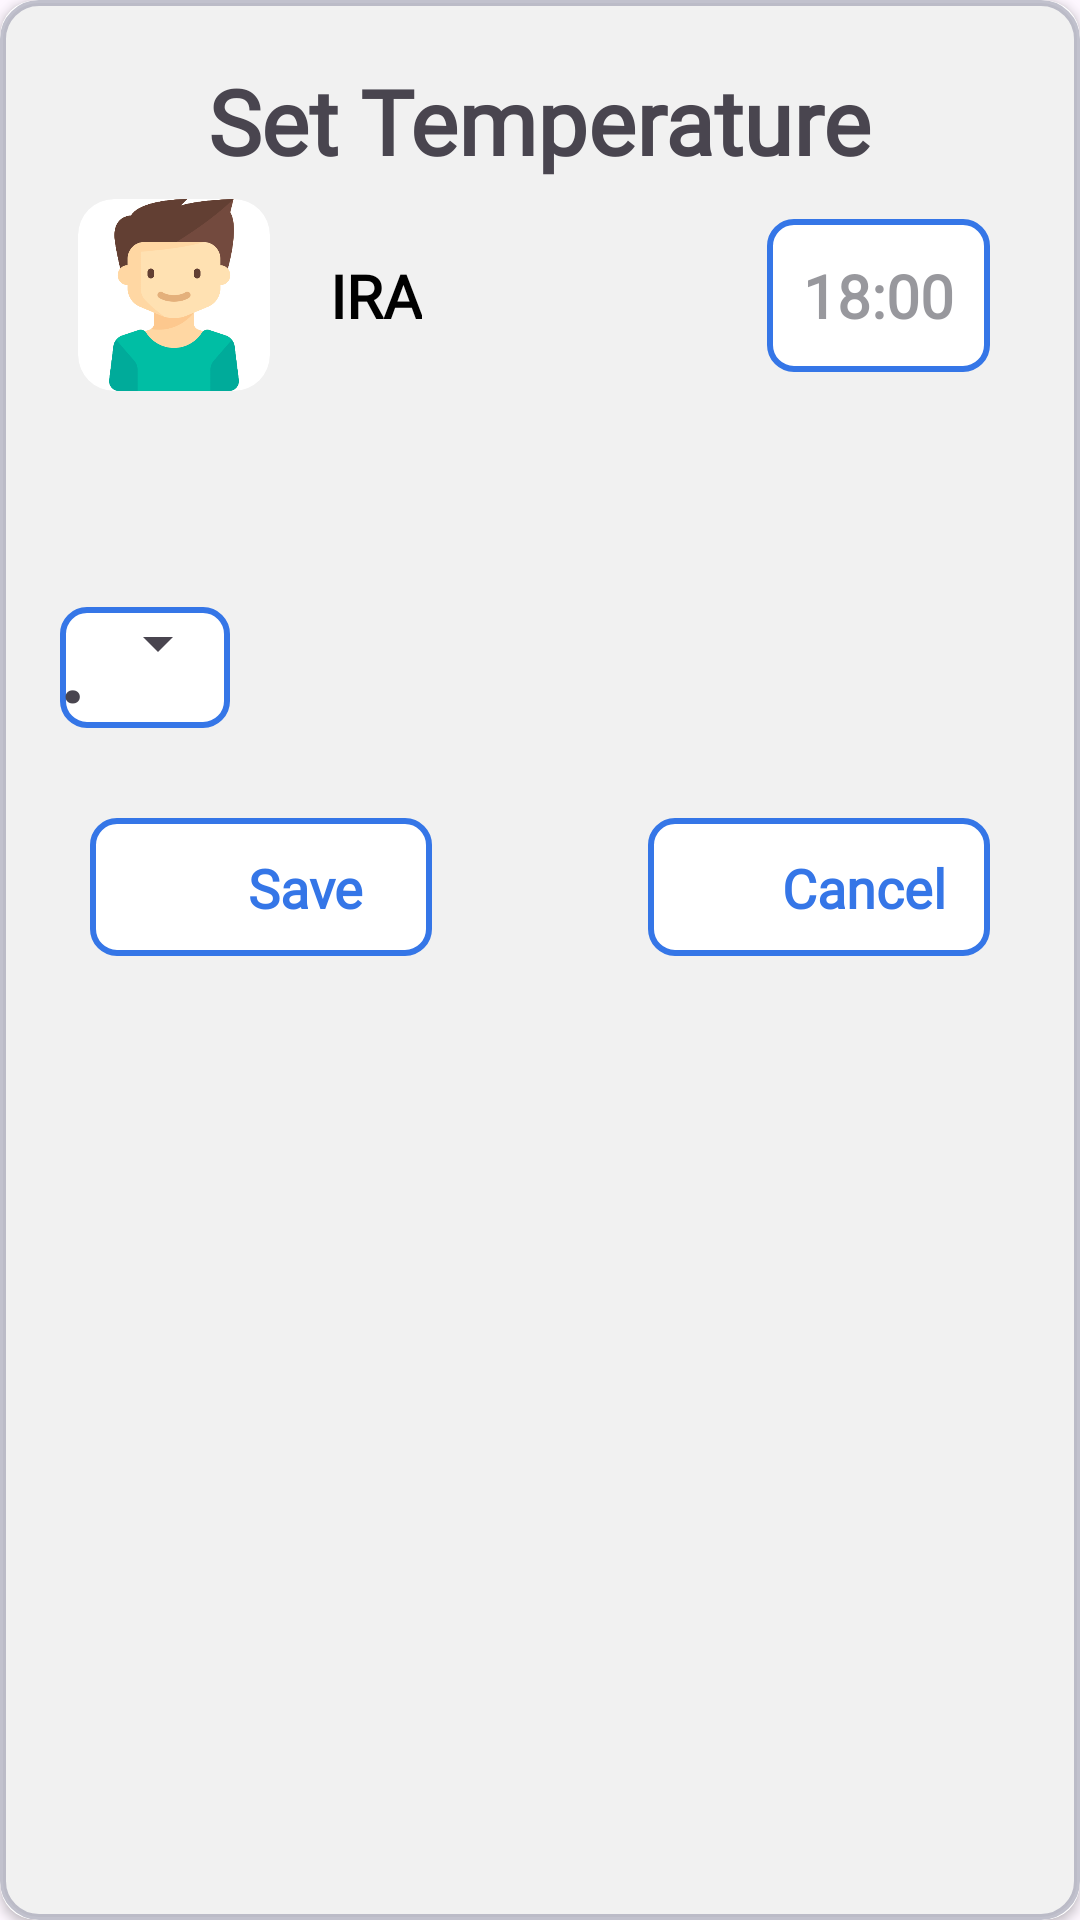

Point at icon controls on the screen. Image size 1080px×1920px, points as (x,y).
Child photo: (174,295)
